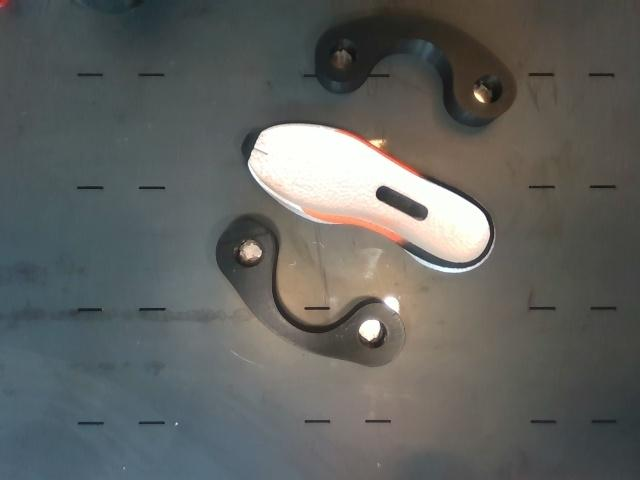shoes: (242, 126, 490, 264)
